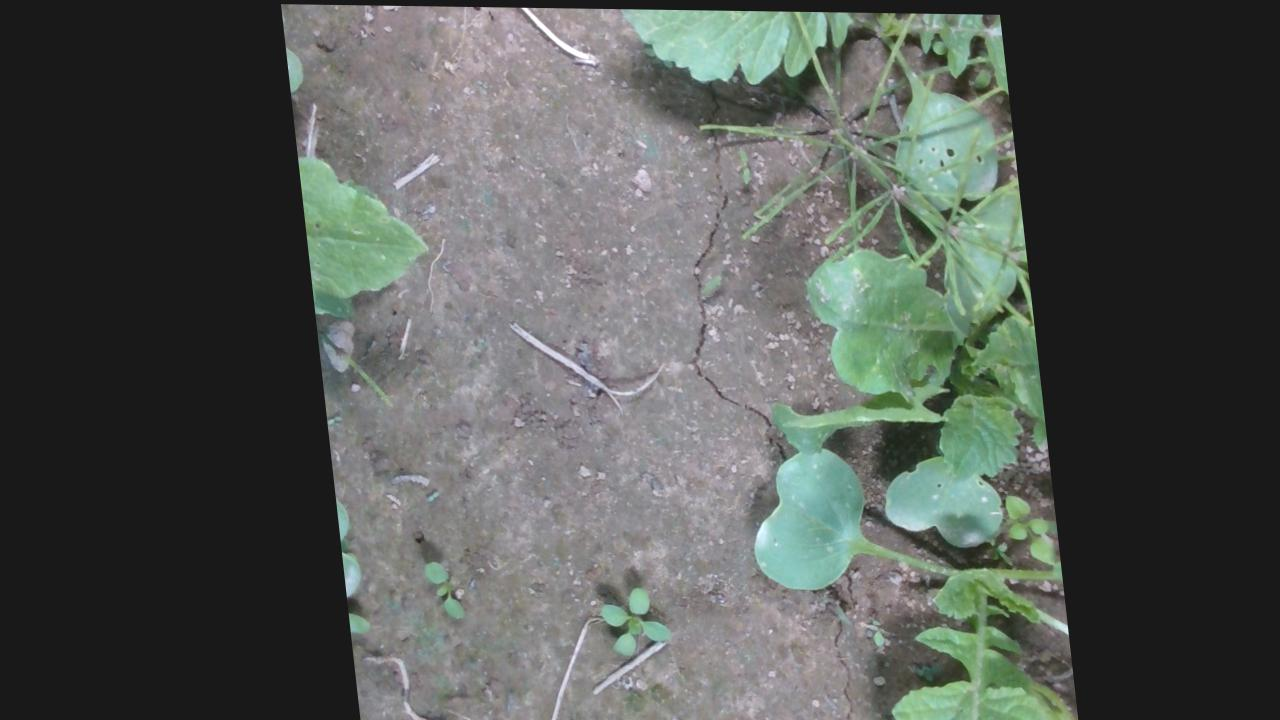weed: (734, 142, 749, 183)
